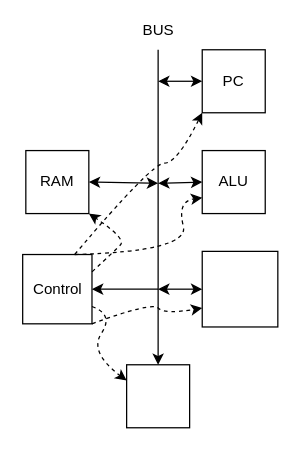
Some shapes in this 300 by 450 pixel diagram are drawn without their labels. Each missing label, with the centre of its shape:
OUT: (x=157, y=396)
Reg X, Y: (x=239, y=288)
